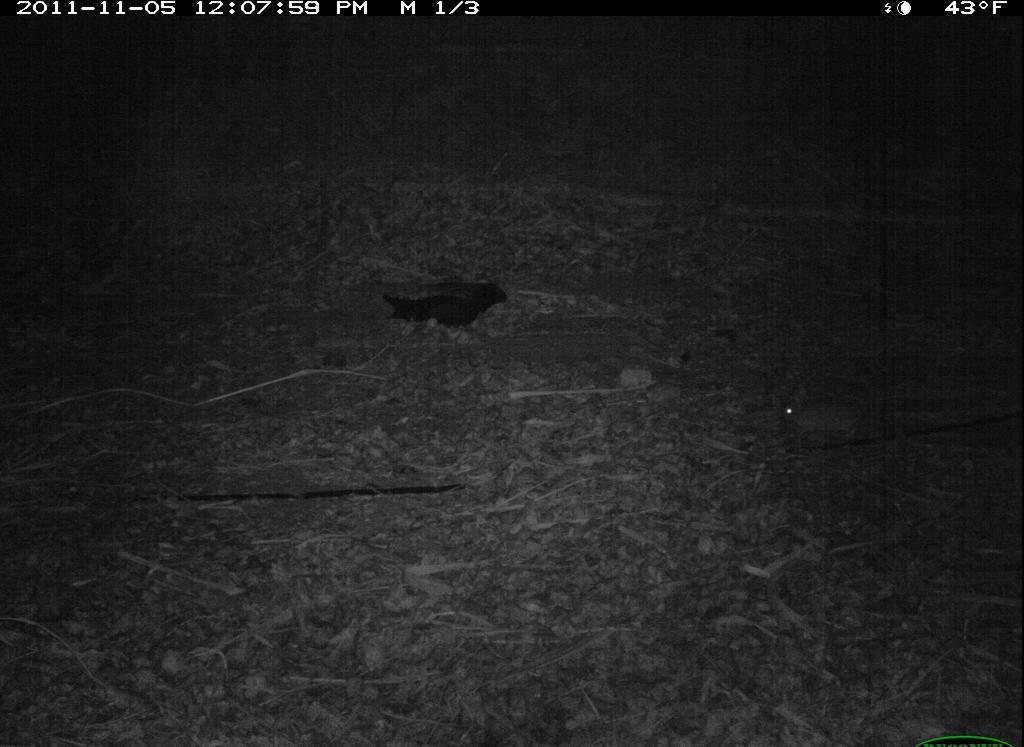rabbit: (774, 382, 865, 455)
